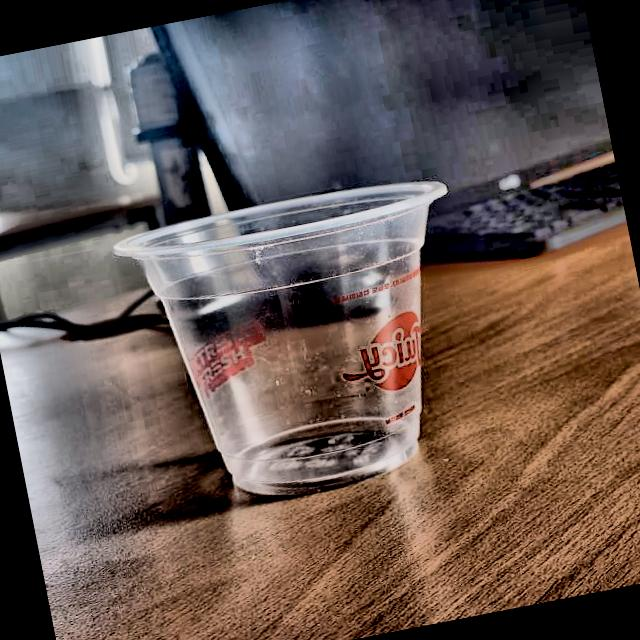plastic cup: (106, 168, 504, 523)
